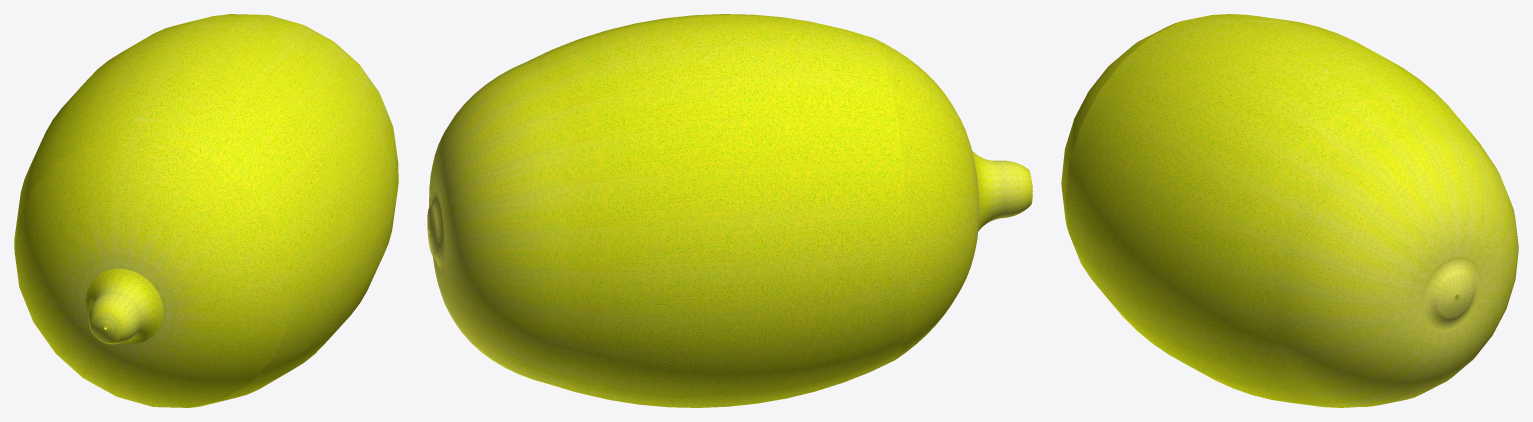
3 renders of one model, left to right at view 1: azimuth 30°, elevation 25°; view 2: azimuth 150°, elevation 25°; view 3: azimuth 270°, elevation 25°, orthographic. The views are drawn at different scales.
Parts seen in each view (by area): view 1: sitruuna; view 2: sitruuna; view 3: sitruuna.
Part boxes in pixels (box(x1,y1,x2,y2)): sitruuna: box(14, 14, 398, 407); sitruuna: box(427, 14, 1032, 407); sitruuna: box(1061, 14, 1518, 407).
Size of the model in its own units: 3.52 by 3.29 by 2.65.
Materials: 2 (2 with a texture image).
